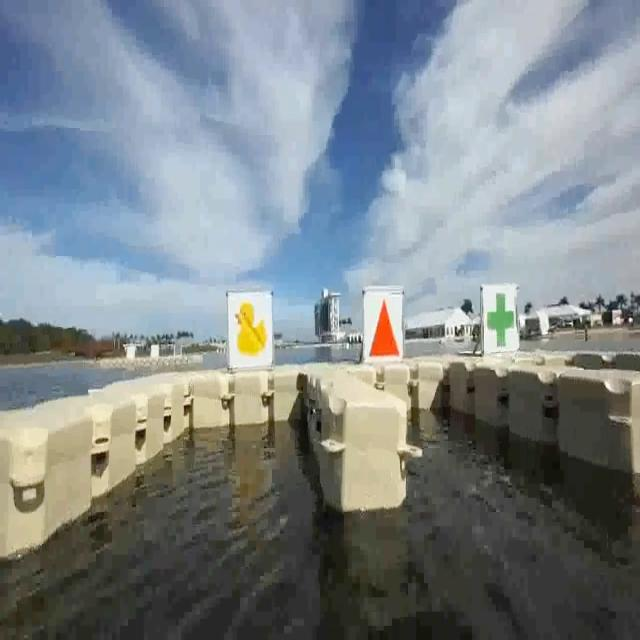blue-cross: (482, 286, 517, 353)
red-dot: (368, 280, 406, 361)
yellow-duck: (229, 292, 272, 368)
